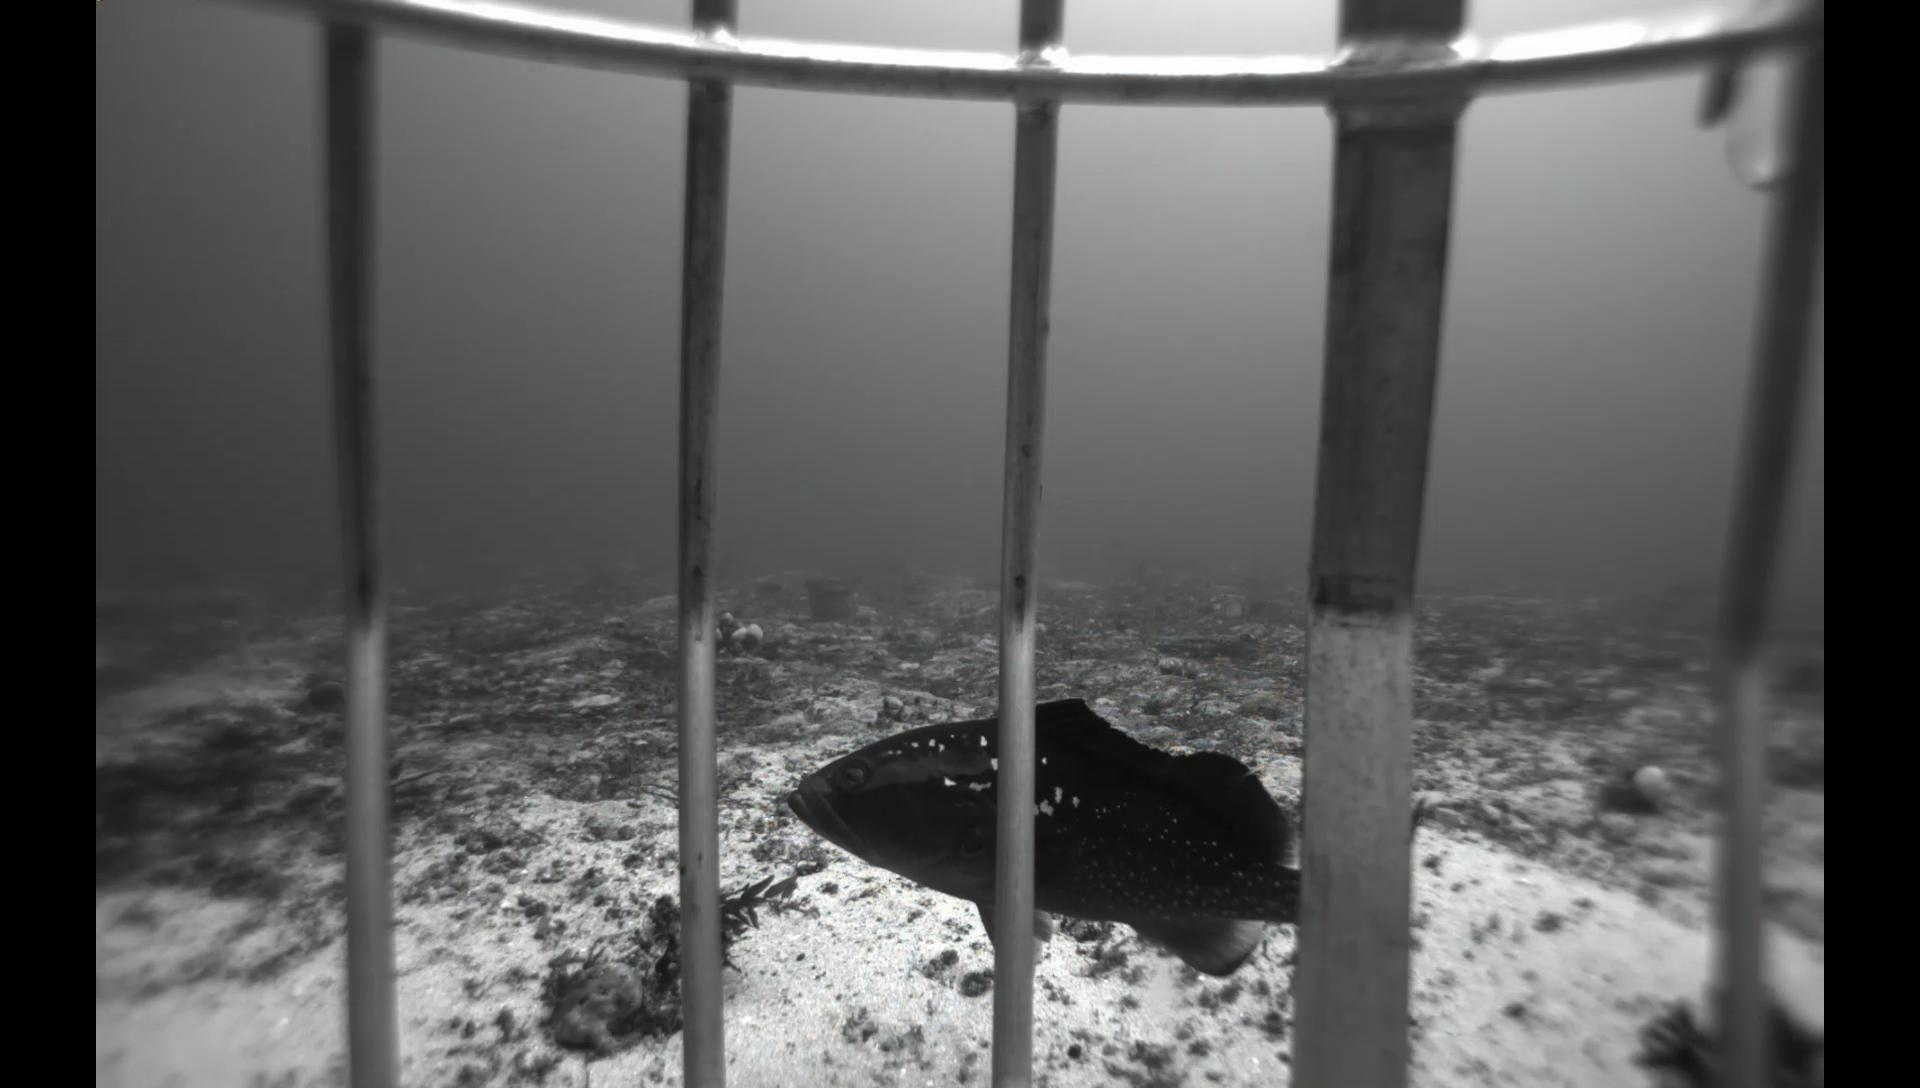CHAETODONOCELLATUS-170260307: (1212, 595, 1253, 621)
EPINEPHELUSMORIO-170021211: (773, 692, 1437, 981)
PRISTIGENYSALTA-170050401: (295, 673, 345, 716)
